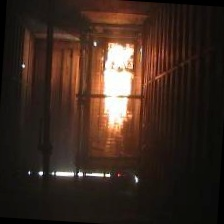fire: (95, 36, 143, 152)
